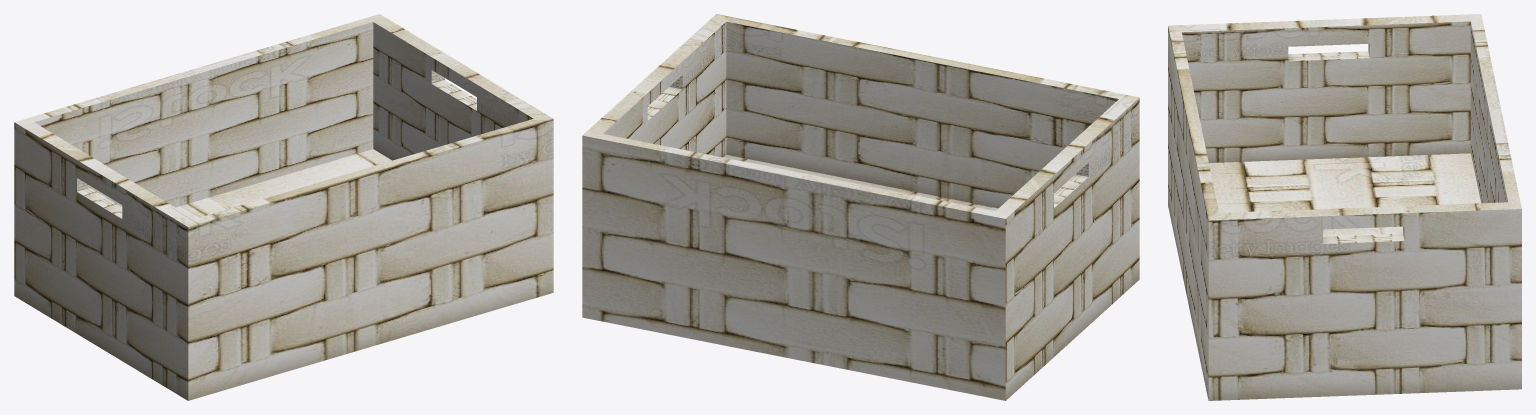
File: CajaAbajo.obj
The picture shows the model from 3 angles, left to right: view 1: azimuth 30°, elevation 25°; view 2: azimuth 150°, elevation 25°; view 3: azimuth 270°, elevation 25°; orthographic projection. The views are drawn at different scales.
Visible parts, largest first — view 1: Caja4:pCube6 pasted__pasted__pasted__group18 pasted__pasted__gro; view 2: Caja4:pCube6 pasted__pasted__pasted__group18 pasted__pasted__gro; view 3: Caja4:pCube6 pasted__pasted__pasted__group18 pasted__pasted__gro.
Part boxes in pixels (x1,y1,x2,y2): Caja4:pCube6 pasted__pasted__pasted__group18 pasted__pasted__gro: (14,14,553,400); Caja4:pCube6 pasted__pasted__pasted__group18 pasted__pasted__gro: (582,14,1139,400); Caja4:pCube6 pasted__pasted__pasted__group18 pasted__pasted__gro: (1168,14,1521,400).
Size of the model in its own units: 1.1 by 0.446 by 0.7927.
Materials: 1 (1 with a texture image).
